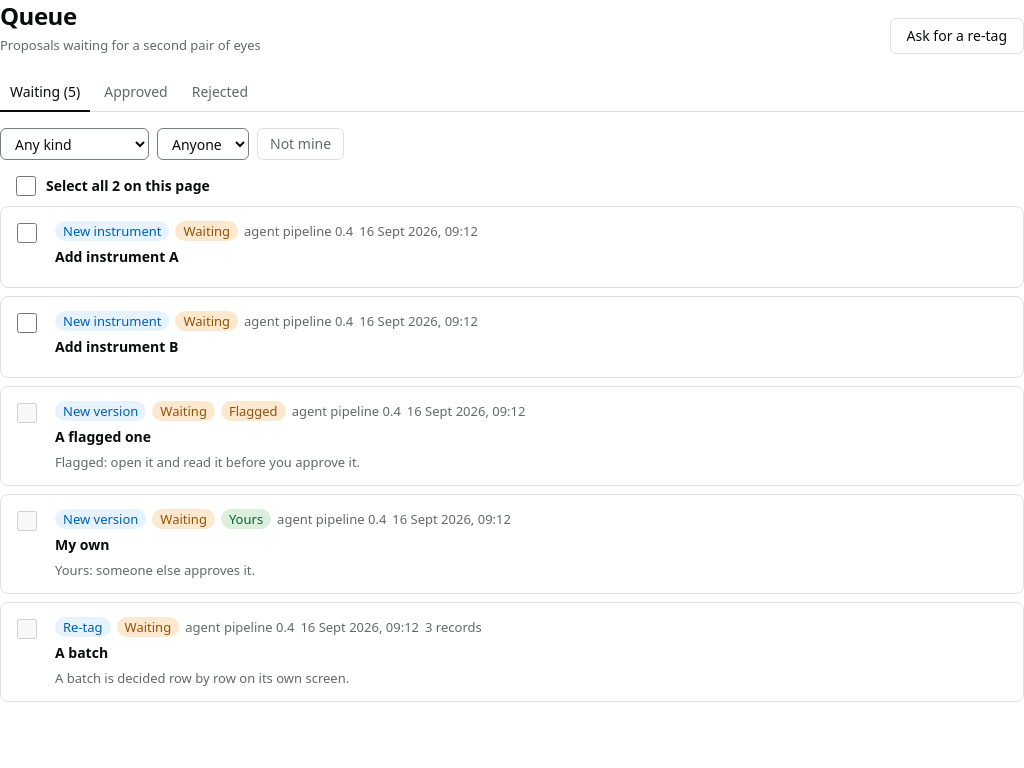
the console queue › lets Waiting select only what can be approved together, saying why each other row cannot
The width and height of the screenshot is (1024, 768).
Expected: the link "Add instrument A" is shown, 55,221 -> 478,266
Expected: the checkbox named "Select Add instrument A" is enabled, 17,223 -> 37,243
Click the checkbox labelled "Select all 2 on this page": click(26, 186) 16,176 -> 36,196
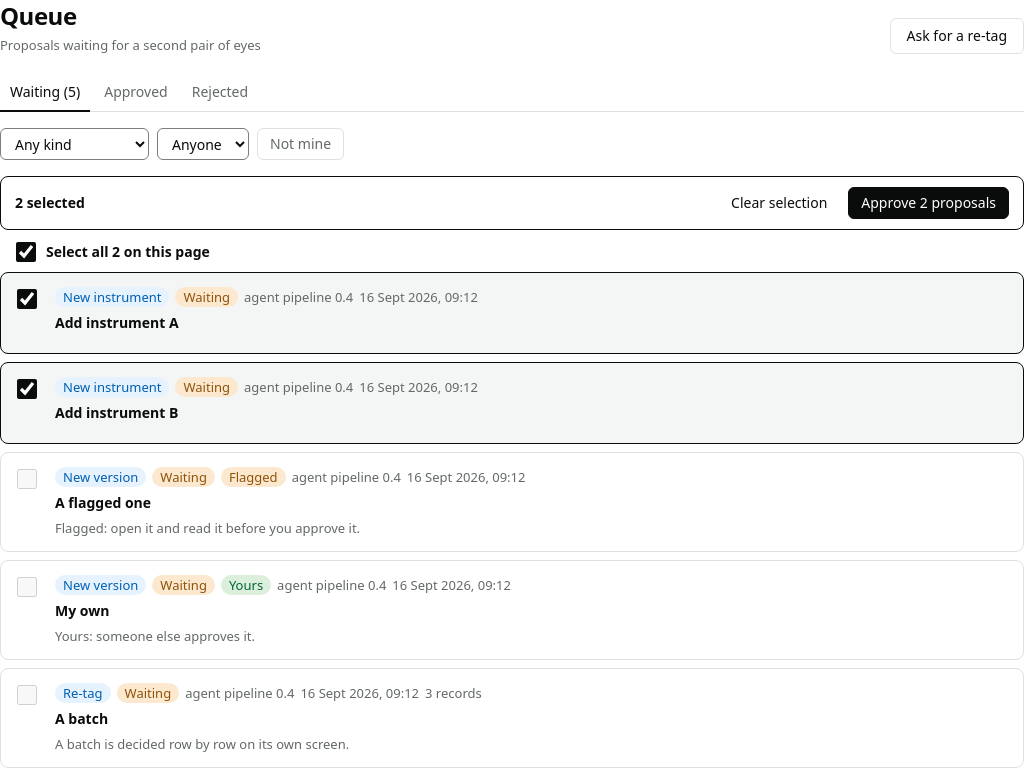
Expected: the checkbox named "Select Add instrument A" is checked, 17,289 -> 37,309
Expected: the text "2 selected" is shown, 15,193 -> 85,213
Click the checkbox named "Select Add instrument B": click(27, 389) 17,379 -> 37,399
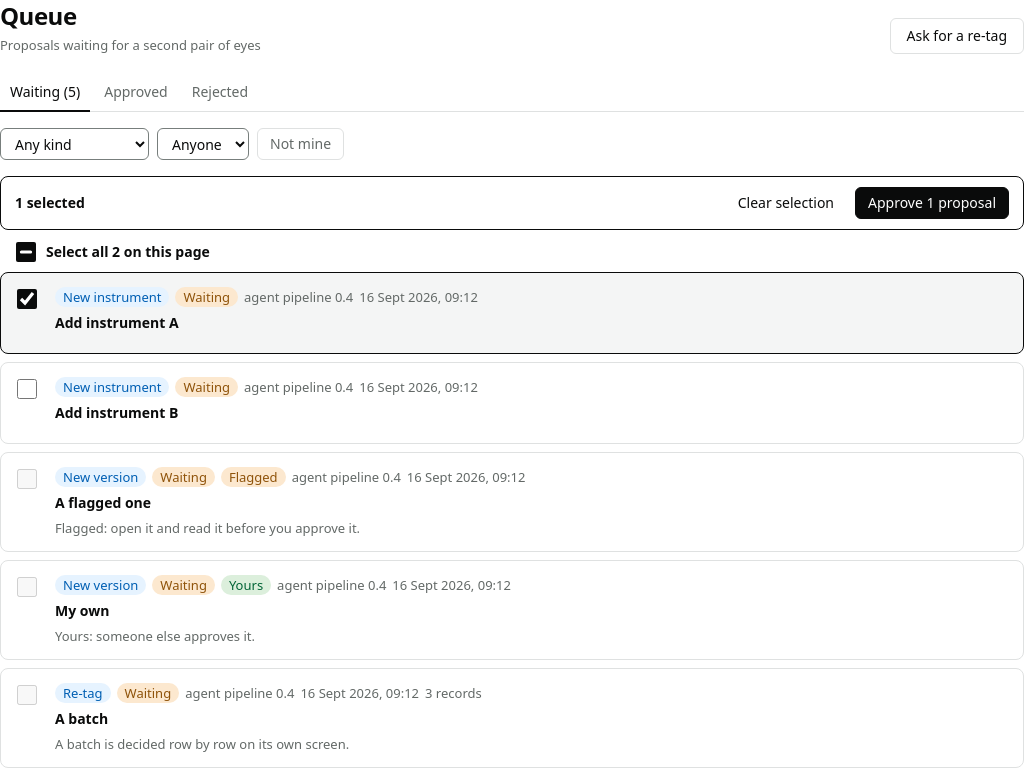
Expected: the text "1 selected" is shown, 15,193 -> 85,213
Click the button "Clear selection": click(786, 203) 725,187 -> 847,219
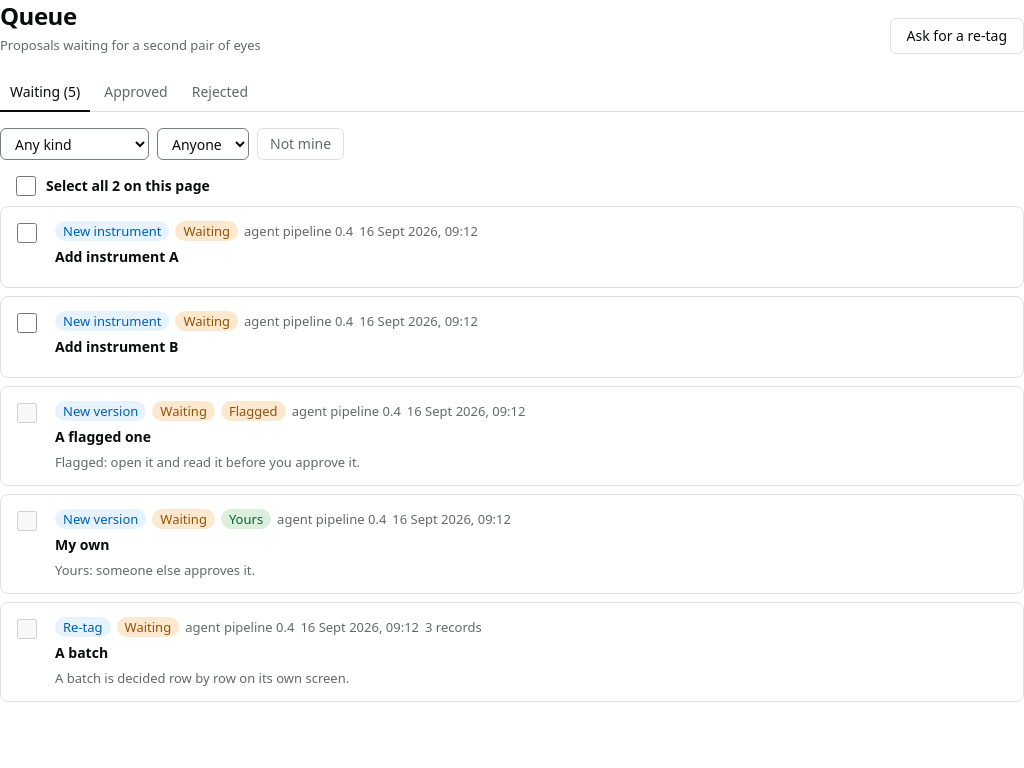
Expected: the button "selection" is gone
